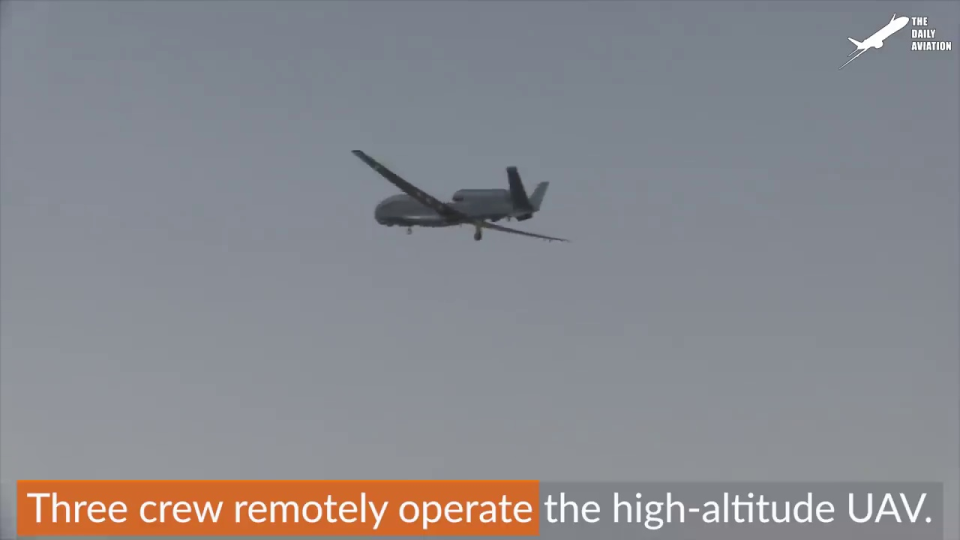military drone: (350, 149, 570, 241)
